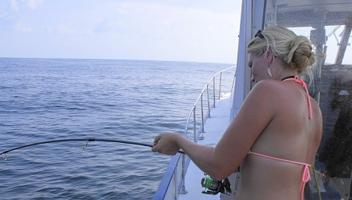person: (152, 26, 325, 200)
